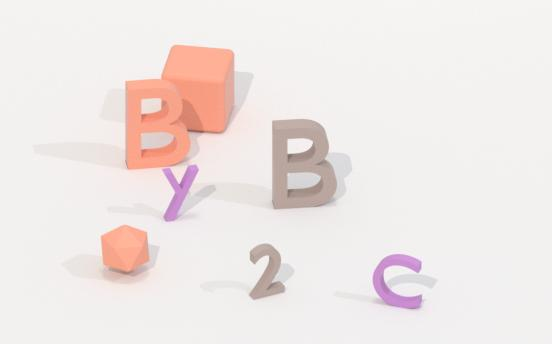2: (246, 241, 288, 304)
Y: (158, 159, 202, 225)
b: (120, 75, 196, 173), (269, 115, 340, 218)
c: (370, 252, 426, 315)
dagiac: (100, 223, 152, 275)
hop: (159, 40, 238, 136)
